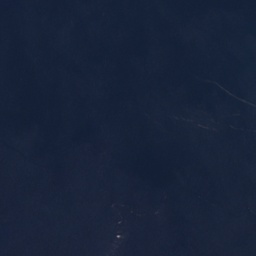Marine Debris: (116, 233, 123, 239), (117, 220, 122, 225)
